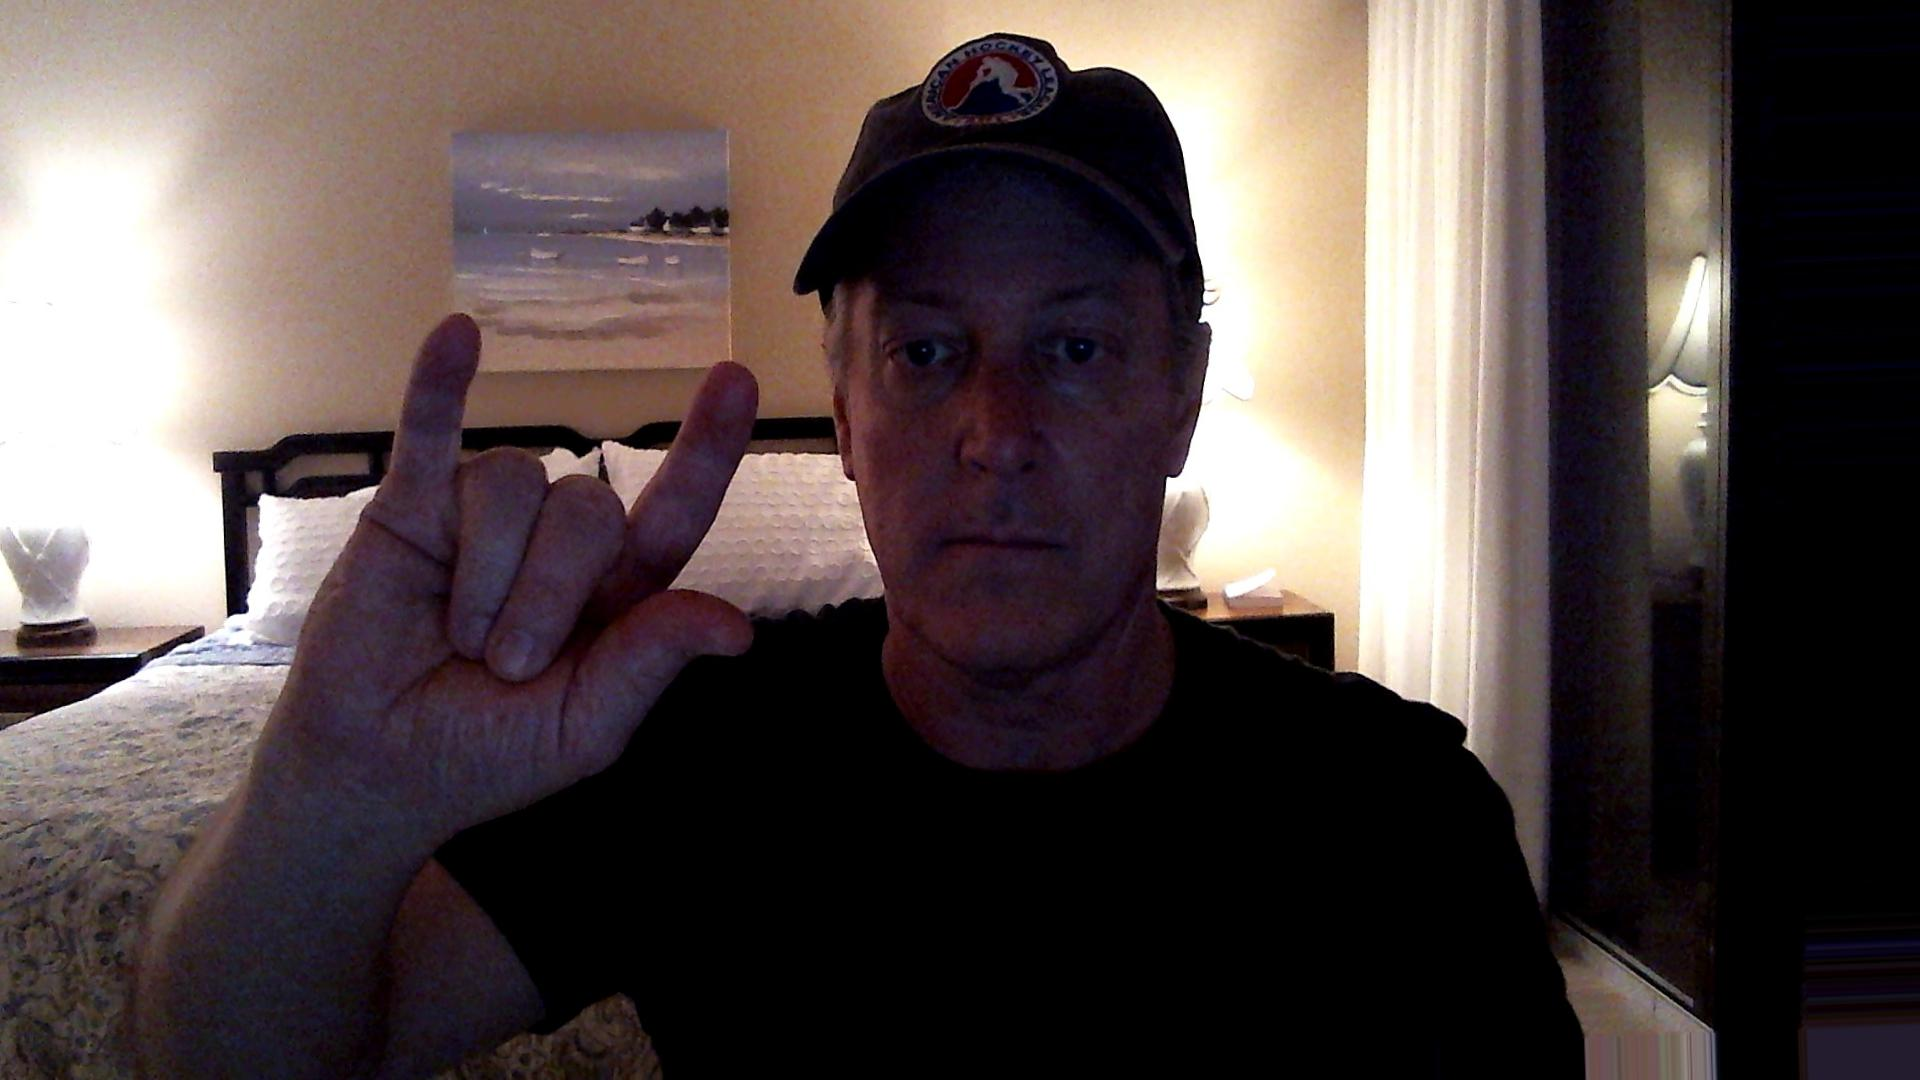I Love You: (272, 282, 775, 806)
